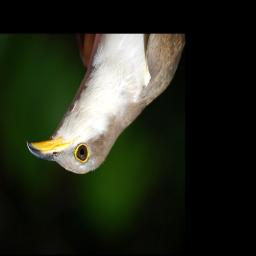Cuckoo: (26, 35, 185, 176)
